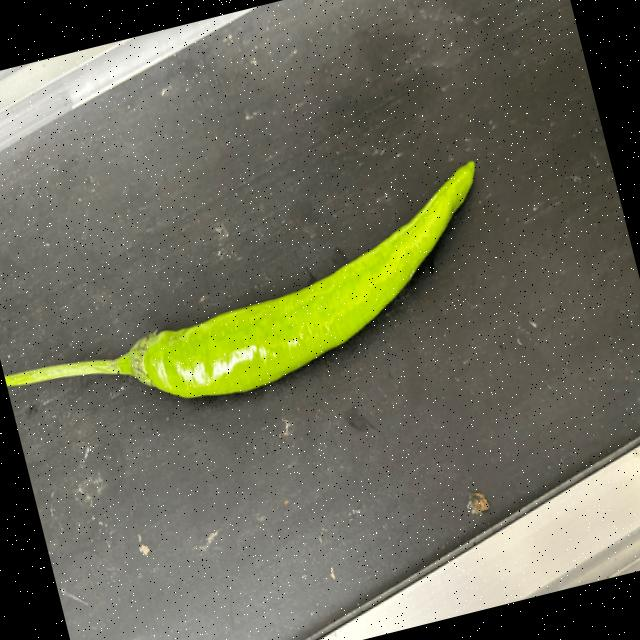chili: (128, 155, 476, 402)
